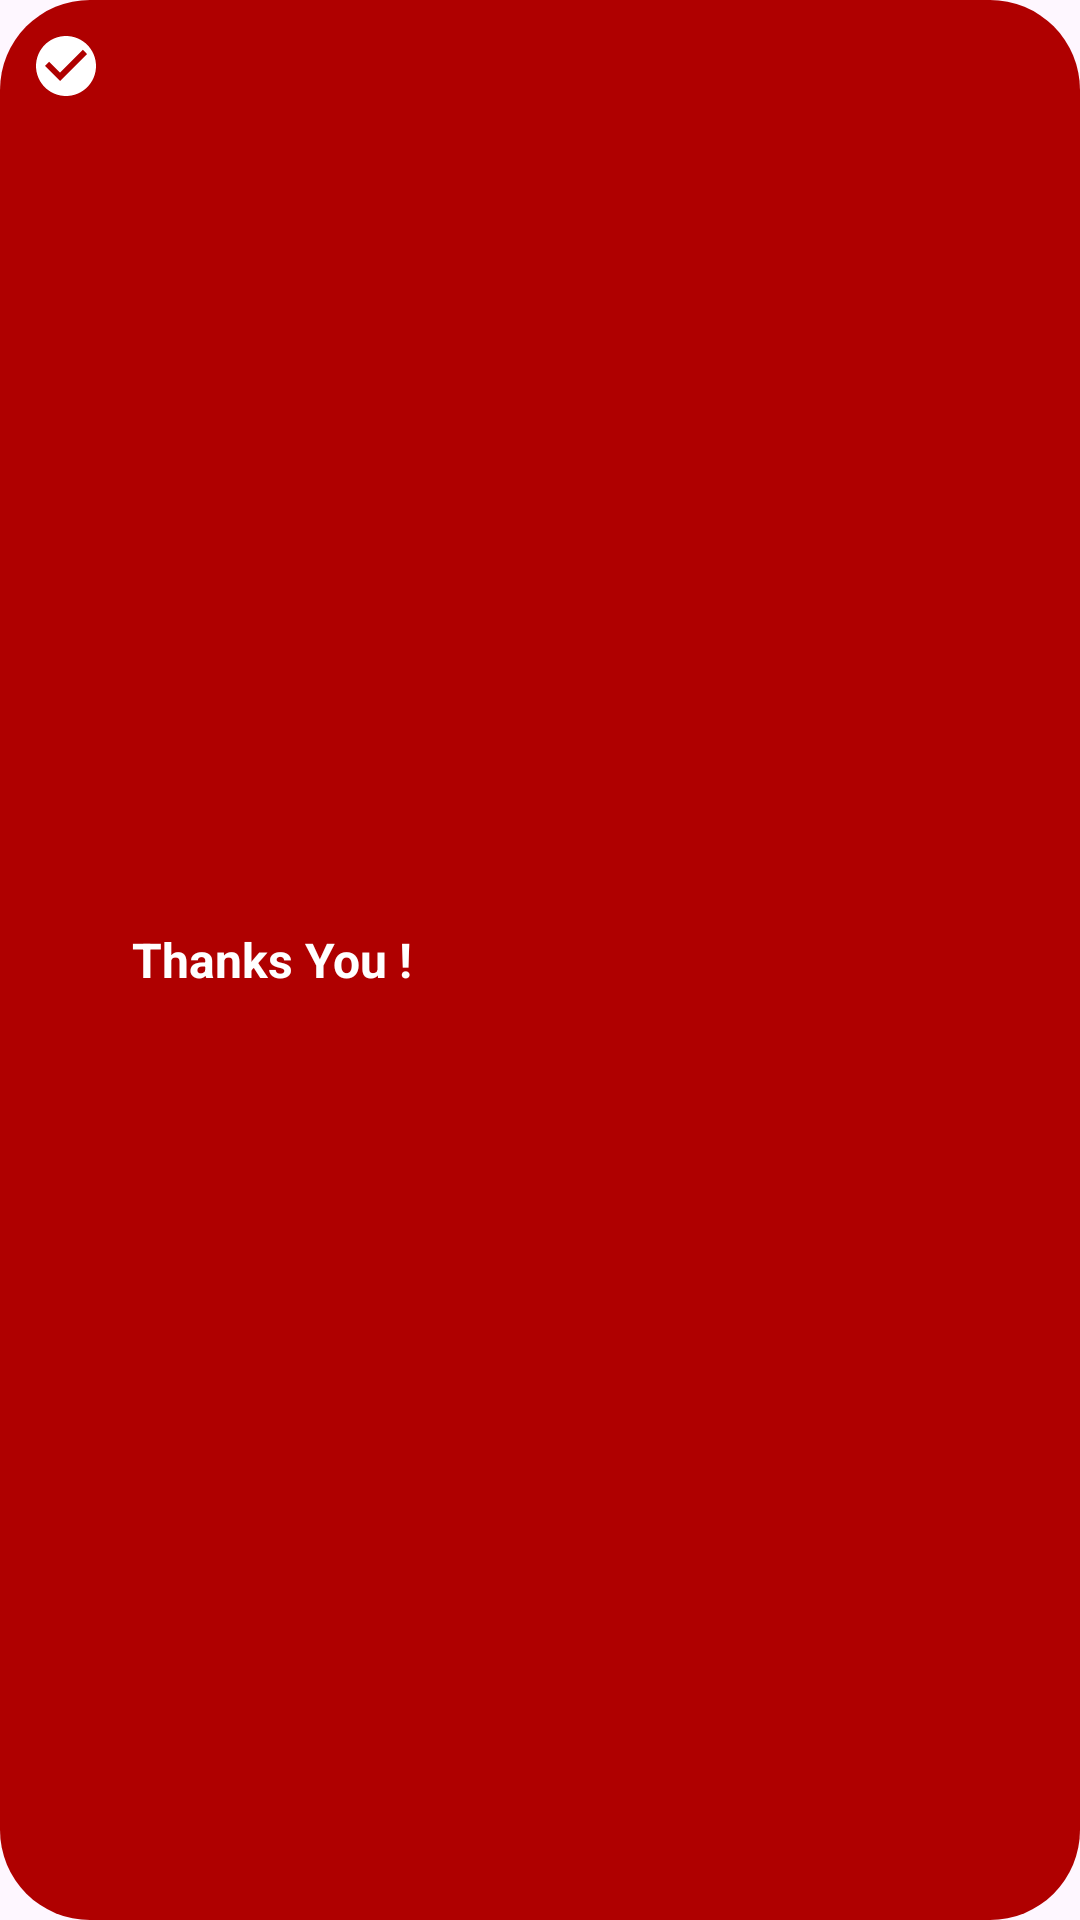

Point at icon controls on the screen. Image size 1080 x 1920, points as (x,y).
check circle: (66,66)
